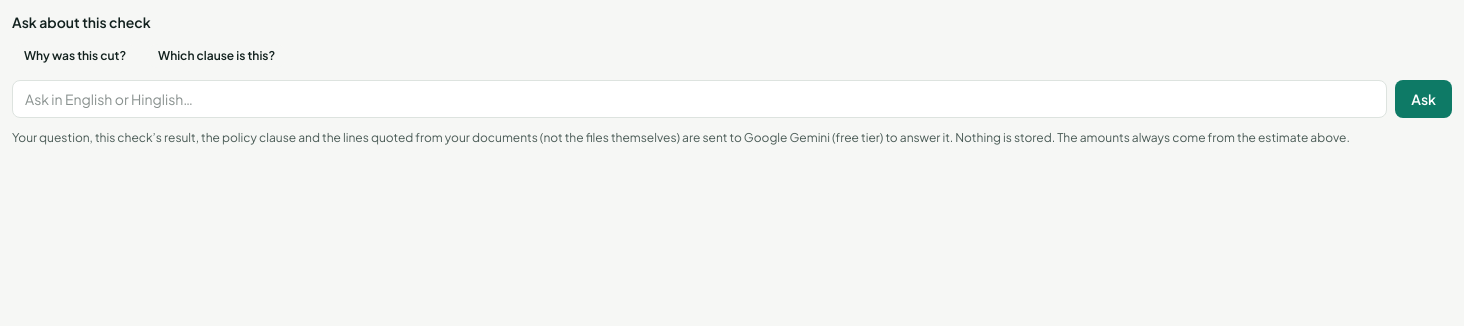
it: CheckChat › TC-UI-CHAT-01 asks a suggested question and shows the cited sources
Expected: the text "sent to Google Gemini" is shown, [12, 130, 1350, 145]
Click the button "Why was this cut?".
click(75, 56)  # box [12, 44, 138, 68]
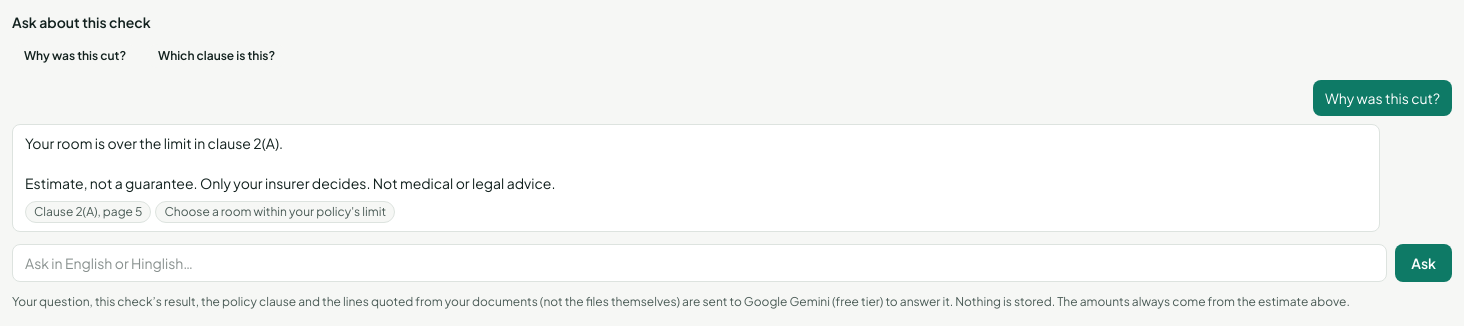
Expected: the text "Your room is over the limit in clause 2(A)" is shown, [25, 134, 556, 192]
Expected: the list item "Clause 2(A), page 5" is shown, [25, 201, 151, 223]
Expected: the list item "Choose a room within your policy's limit" is shown, [155, 201, 395, 223]
